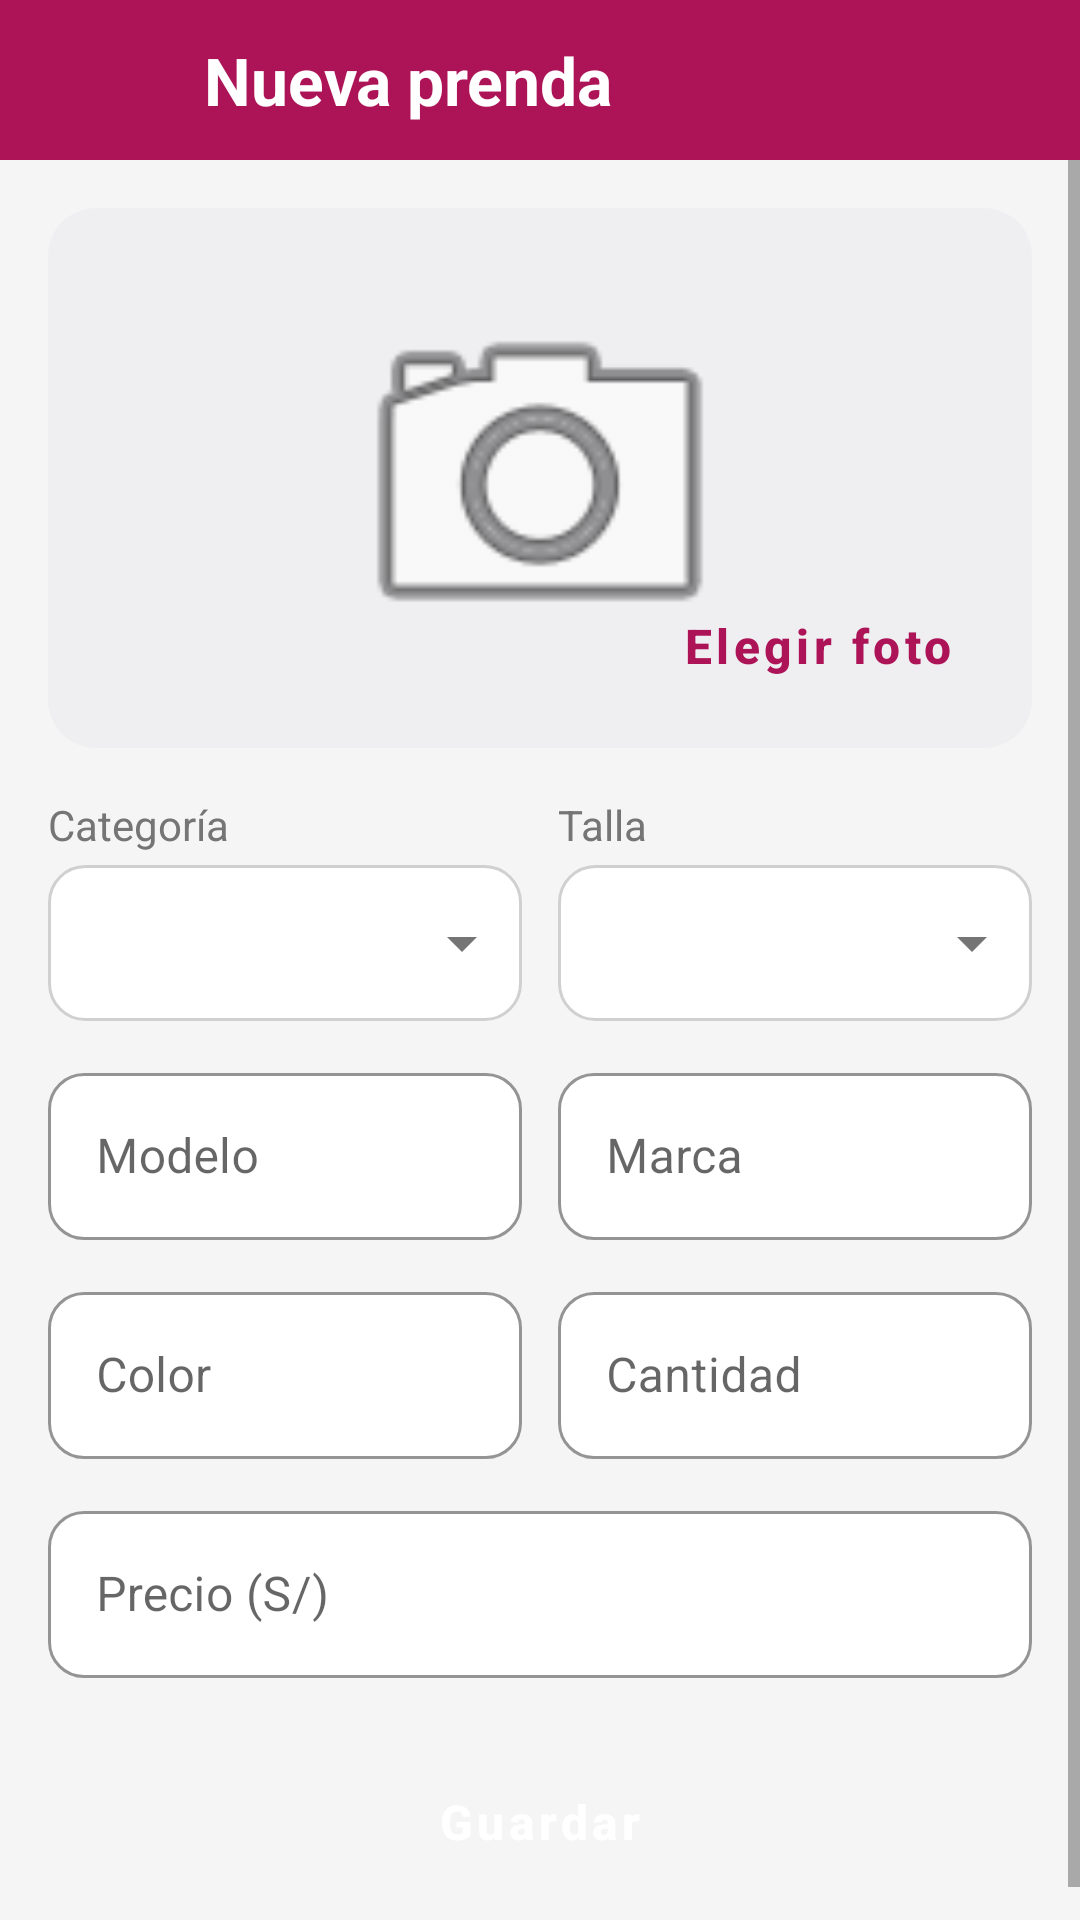

Point at icon controls on the screen. Image size 1080*1920, points as (x,y).
camera: (552,503)
